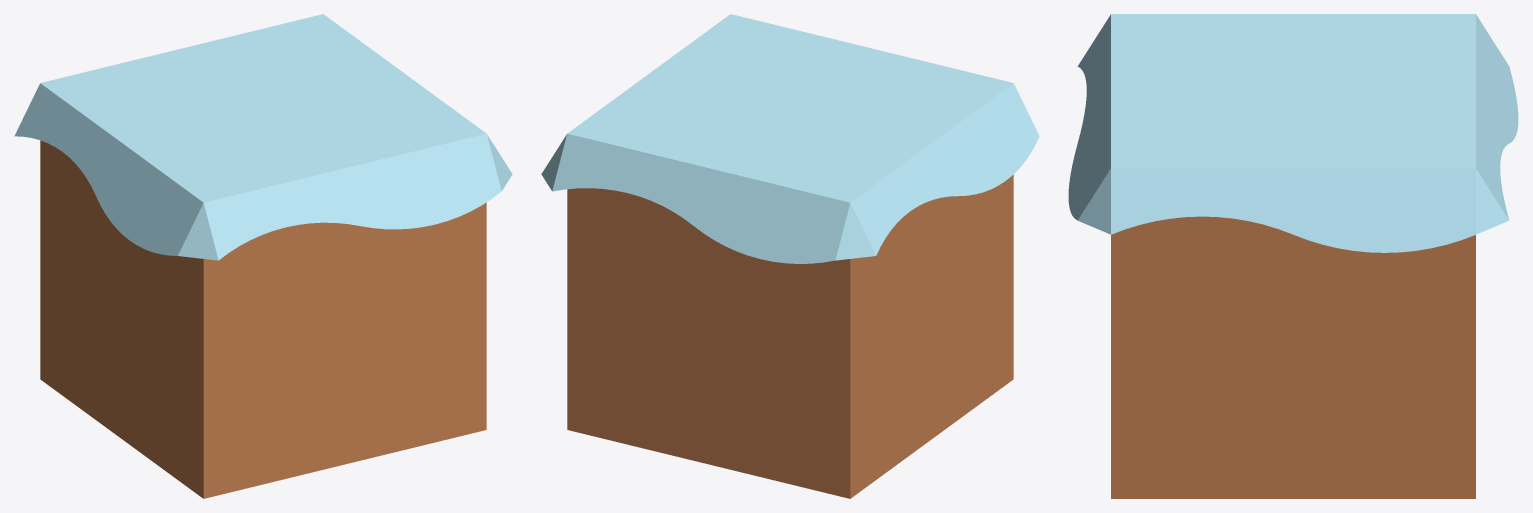
Rendered from blockSnow1.fbx.glb.
3 renders of one model, left to right at view 1: azimuth 30°, elevation 25°; view 2: azimuth 150°, elevation 25°; view 3: azimuth 270°, elevation 25°, orthographic. The views are drawn at different scales.
Parts seen in each view (by area): view 1: blockSnow.1; view 2: blockSnow.1; view 3: blockSnow.1.
Boxes of the visible parts, x1,y1,x2,y2 form: blockSnow.1: [14, 14, 512, 498]; blockSnow.1: [541, 14, 1039, 498]; blockSnow.1: [1068, 14, 1518, 498].
Size of the model in its own units: 12.33 by 10 by 12.33.
